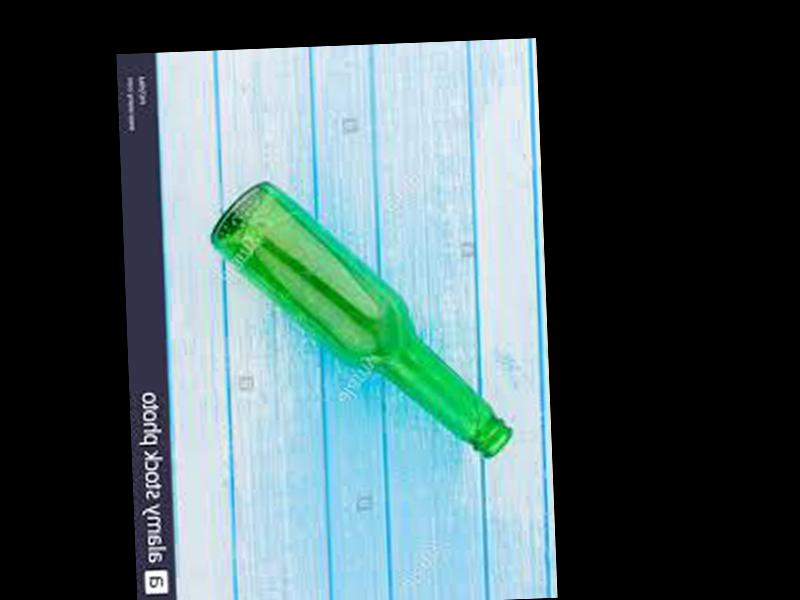Beer: (204, 169, 514, 471)
